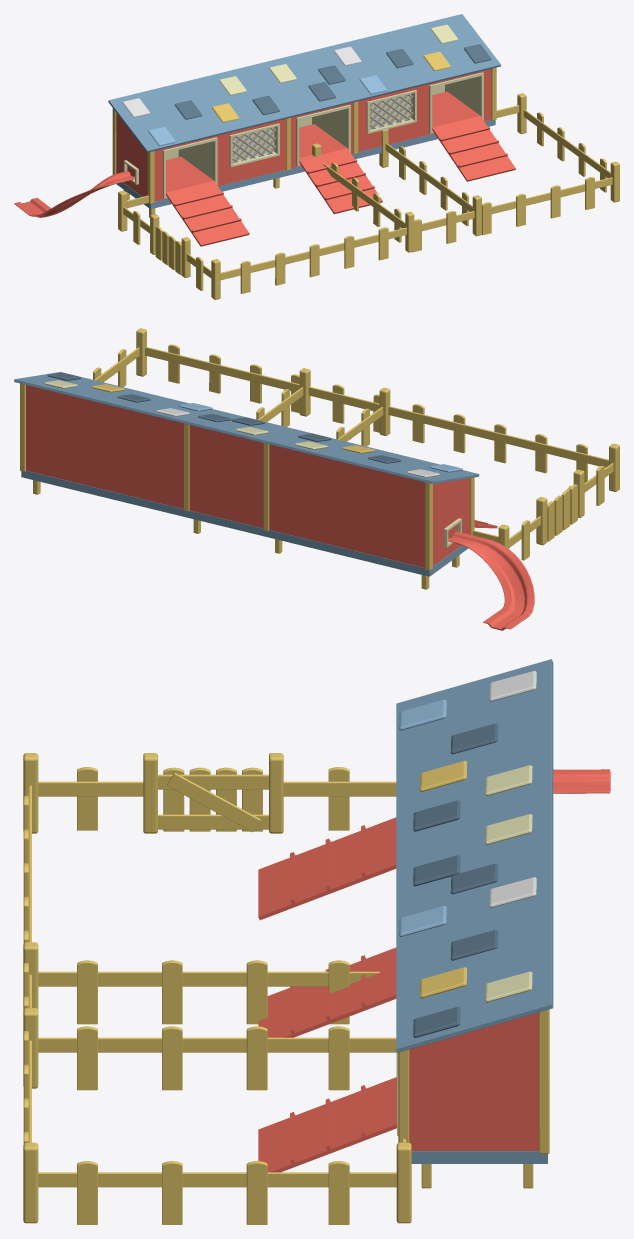
The model's file is kaz_kumes.fbx.
3 views of the same model, one above another, from view 1: azimuth 30°, elevation 25°; view 2: azimuth 150°, elevation 25°; view 3: azimuth 270°, elevation 25° (orthographic). The views are drawn at different scales.
Visible parts, largest first — view 1: Cube.104, Cube.124, Cube.123, Cube.115, Cube.064, Cube.071, Cube.073, Cube.131, Cube.114, Cube.070, Cube.105, cit_1.074 (+14 smaller); view 2: Cube.064, Cube.131, Cube.069, Cube.104, Cube.124, Cube.137, cit_1.090, cit_1.060, camurluk_1, Cube.103, camurluk_1.002, Cube.073 (+13 smaller); view 3: Cube.104, Cube.124, Cube.131, Cube.073, Cube.115, Cube.123, Cube.071, cit_1.103, cit_1.085, cit_1.068, Cube.133, cit_1.053 (+43 smaller).
Boxes of the visible parts, bbox=[...] form: Cube.104: bbox=[108, 64, 294, 152]; Cube.124: bbox=[324, 14, 500, 100]; Cube.123: bbox=[432, 91, 515, 181]; Cube.115: bbox=[166, 156, 249, 246]; Cube.064: bbox=[116, 113, 285, 201]; Cube.071: bbox=[299, 124, 382, 213]; Cube.073: bbox=[256, 48, 362, 116]; Cube.131: bbox=[358, 69, 491, 151]; Cube.114: bbox=[429, 72, 483, 133]; Cube.070: bbox=[296, 105, 350, 166]; Cube.105: bbox=[163, 137, 217, 198]; cit_1.074: bbox=[220, 211, 474, 279]; Cube.064: bbox=[269, 444, 470, 567]; Cube.131: bbox=[26, 385, 183, 508]; Cube.069: bbox=[189, 425, 263, 528]; Cube.104: bbox=[258, 431, 479, 483]; Cube.124: bbox=[14, 372, 223, 421]; Cube.137: bbox=[448, 531, 534, 615]; cit_1.090: bbox=[145, 347, 608, 460]; cit_1.060: bbox=[388, 406, 608, 467]; camurluk_1: bbox=[264, 530, 468, 576]; Cube.103: bbox=[263, 443, 474, 570]; camurluk_1.002: bbox=[21, 470, 184, 516]; Cube.073: bbox=[178, 412, 304, 441]; Cube.104: bbox=[396, 659, 553, 847]; Cube.124: bbox=[396, 868, 553, 1052]; Cube.131: bbox=[409, 1012, 538, 1150]; Cube.073: bbox=[396, 803, 553, 912]; Cube.115: bbox=[258, 817, 396, 920]; Cube.123: bbox=[258, 1077, 396, 1172]; Cube.071: bbox=[258, 947, 396, 1037]; cit_1.103: bbox=[38, 1172, 396, 1187]; cit_1.085: bbox=[38, 1037, 396, 1052]; cit_1.068: bbox=[38, 971, 379, 986]; Cube.133: bbox=[163, 767, 262, 831]; cit_1.053: bbox=[283, 781, 396, 796].
Size of the model in its own units: 5571 by 1135 by 3078.
